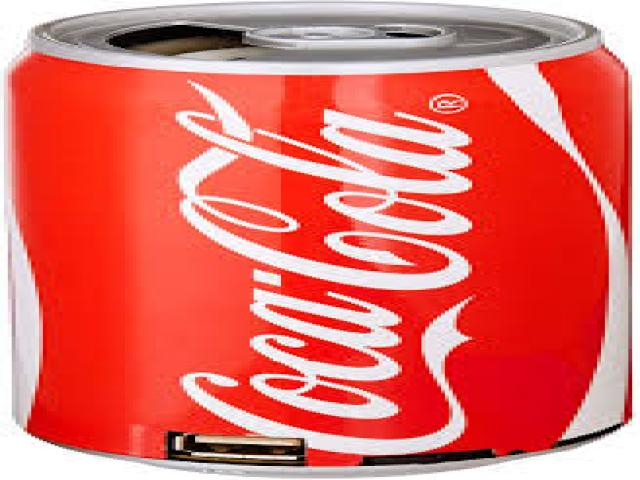Canned_drinks: (4, 0, 640, 480)
